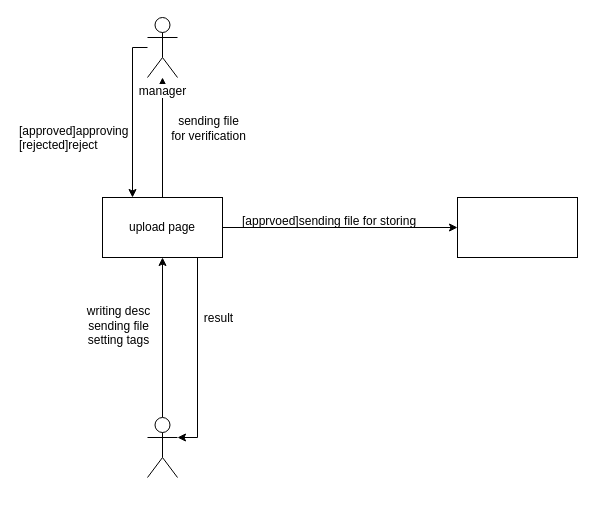
This 595x516 diagram has some shape labels left out. Here are the shapes that lost their labels. From the top down, the centre of each, then its label:
At (517,227): "data base".
At (162,447): "student".
